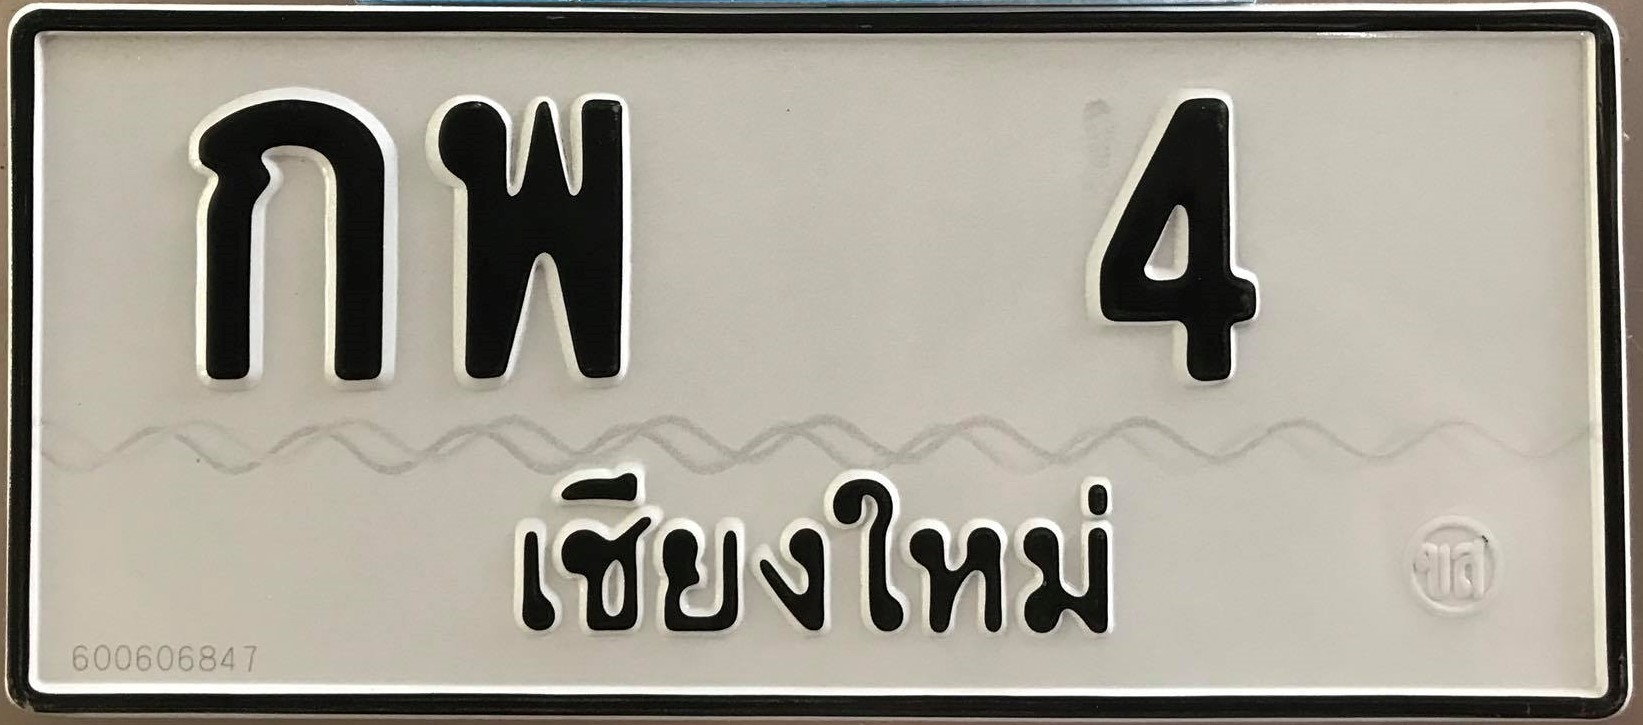txt01: (187, 86, 397, 390)
txt25: (426, 90, 635, 389)
